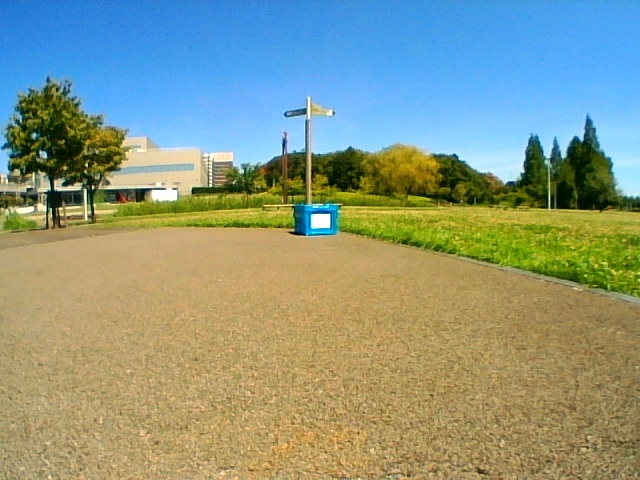blue_box: (295, 205, 337, 235)
tag: (310, 214, 330, 229)
